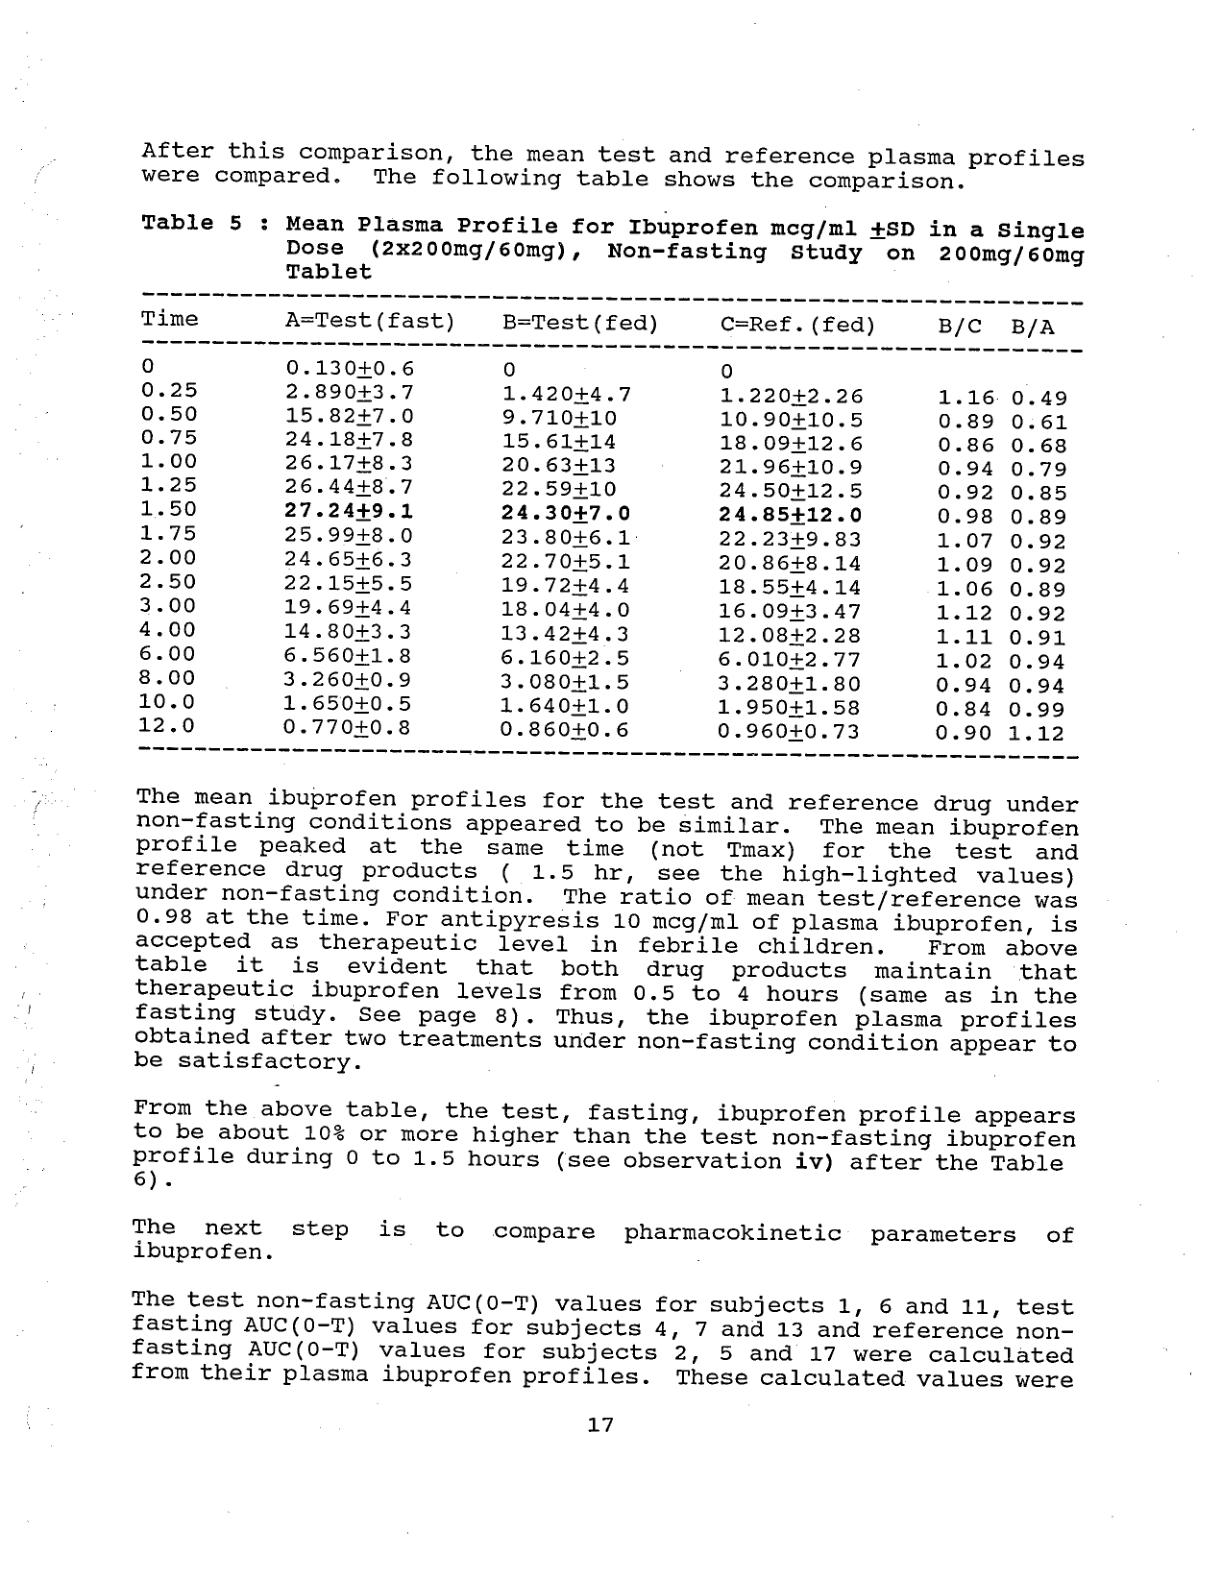partial_lined: (137, 288, 1082, 763)
